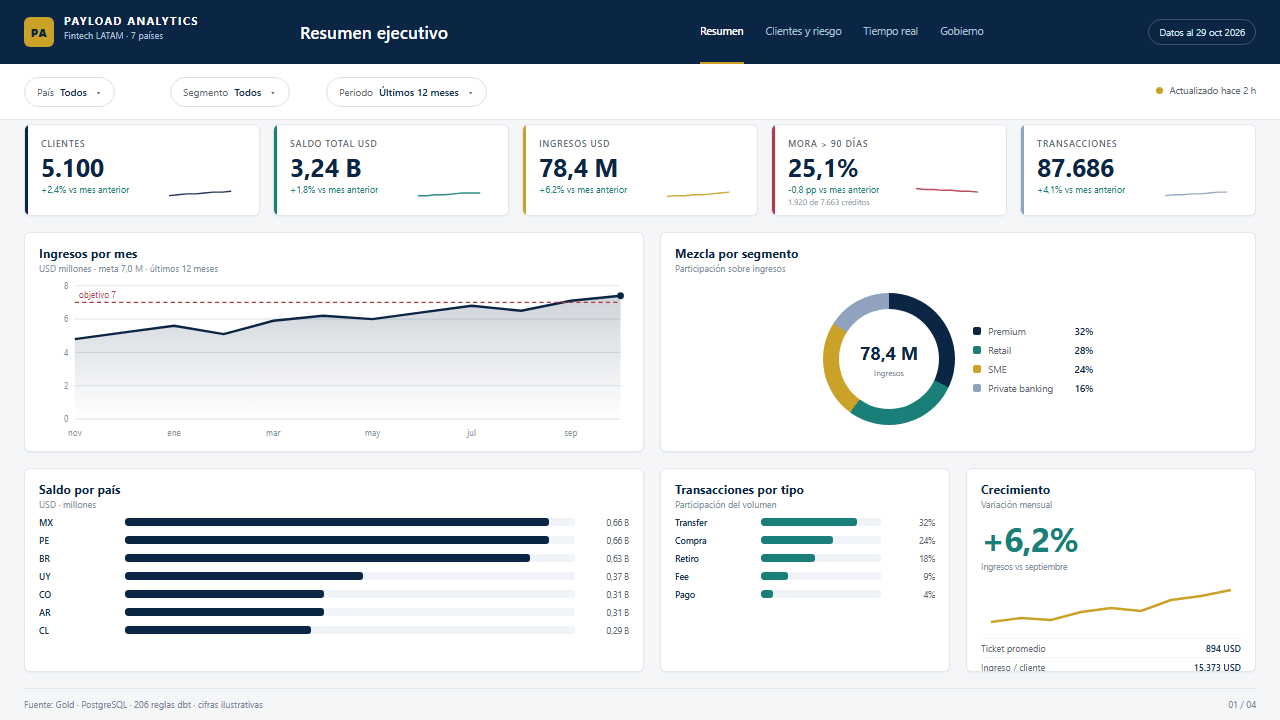

The page's visual inventory and layout, read from the dashboard file:
{"tool":"powerbi","page":{"name":"Resumen","canvas":[1280,720],"ordinal":0},"visuals":[{"type":"textbox","box":[0,0,1280,720],"z":0},{"type":"textbox","box":[0,64,1280,56],"z":100},{"type":"textbox","box":[24,684,1232,1],"z":100},{"type":"textbox","box":[0,119,1280,1],"z":101},{"type":"slicer","fields":{"Values":["gold dim_customer.country"]},"box":[24,77,180,32],"z":200},{"type":"slicer","fields":{"Values":["gold dim_customer.customer_segment"]},"box":[216,77,190,32],"z":200},{"type":"slicer","fields":{"Values":["gold dim_date.year"]},"box":[418,77,140,32],"z":200},{"type":"card","fields":{"Values":["Medidas.Clientes"]},"box":[24,124,236,84],"z":200},{"type":"card","fields":{"Values":["Medidas.Saldo total"]},"box":[273,124,236,84],"z":200},{"type":"card","fields":{"Values":["Medidas.Ingresos"]},"box":[522,124,236,84],"z":200},{"type":"card","fields":{"Values":["Medidas.Tasa de mora 90+"]},"box":[771,124,236,84],"z":200},{"type":"card","fields":{"Values":["Medidas.Transacciones"]},"box":[1020,124,236,84],"z":200},{"type":"lineChart","title":"Ingresos por mes","fields":{"Category":["gold fct_transactions.transaction_date"],"Y":["Medidas.Ingresos USD"]},"box":[24,216,620,200],"z":200},{"type":"donutChart","title":"Mezcla por segmento","fields":{"Category":["gold dim_customer.Segmento"],"Y":["Medidas.Ingresos USD"]},"box":[660,216,596,200],"z":200},{"type":"clusteredBarChart","title":"Saldo por país","fields":{"Category":["gold dim_account.country"],"Y":["Medidas.Saldo total USD"]},"box":[24,424,620,248],"z":200},{"type":"clusteredBarChart","title":"Transacciones por tipo","fields":{"Category":["gold fct_transactions.type"],"Y":["Medidas.Transacciones"]},"box":[660,424,290,248],"z":200},{"type":"card","fields":{"Values":["Medidas.Ticket promedio USD"]},"box":[966,424,290,248],"z":200},{"type":"textbox","box":[0,0,1280,64],"z":1000},{"type":"textbox","box":[680,16,350,32],"z":1090},{"type":"textbox","box":[24,10,230,44],"z":1100},{"type":"pageNavigator","box":[680,16,350,32],"z":1100},{"type":"textbox","box":[260,18,430,30],"z":1100},{"type":"textbox","box":[1150,21,106,22],"z":1100},{"type":"textbox","box":[960,84,296,20],"z":1100},{"type":"textbox","box":[24,694,900,16],"z":1100},{"type":"textbox","box":[1180,694,76,16],"z":1100},{"type":"textbox","box":[0,0,4,64],"z":1200}]}

Visuals, with their boxes in screenshot pixels (x1, y1, x2, y2), scaled from the page's 1280x720 canvas onto the 1280x720 screenshot:
textbox: <region>0, 0, 1279, 719</region>
textbox: <region>0, 64, 1279, 120</region>
textbox: <region>24, 684, 1256, 685</region>
textbox: <region>0, 119, 1279, 120</region>
slicer - gold dim_customer.country: <region>24, 77, 204, 109</region>
slicer - gold dim_customer.customer_segment: <region>216, 77, 406, 109</region>
slicer - gold dim_date.year: <region>418, 77, 558, 109</region>
card - Medidas.Clientes: <region>24, 124, 260, 208</region>
card - Medidas.Saldo total: <region>273, 124, 509, 208</region>
card - Medidas.Ingresos: <region>522, 124, 758, 208</region>
card - Medidas.Tasa de mora 90+: <region>771, 124, 1007, 208</region>
card - Medidas.Transacciones: <region>1020, 124, 1256, 208</region>
"Ingresos por mes" lineChart: <region>24, 216, 644, 416</region>
"Mezcla por segmento" donutChart: <region>660, 216, 1256, 416</region>
"Saldo por país" clusteredBarChart: <region>24, 424, 644, 672</region>
"Transacciones por tipo" clusteredBarChart: <region>660, 424, 950, 672</region>
card - Medidas.Ticket promedio USD: <region>966, 424, 1256, 672</region>
textbox: <region>0, 0, 1279, 64</region>
textbox: <region>680, 16, 1030, 48</region>
textbox: <region>24, 10, 254, 54</region>
pageNavigator: <region>680, 16, 1030, 48</region>
textbox: <region>260, 18, 690, 48</region>
textbox: <region>1150, 21, 1256, 43</region>
textbox: <region>960, 84, 1256, 104</region>
textbox: <region>24, 694, 924, 710</region>
textbox: <region>1180, 694, 1256, 710</region>
textbox: <region>0, 0, 4, 64</region>
